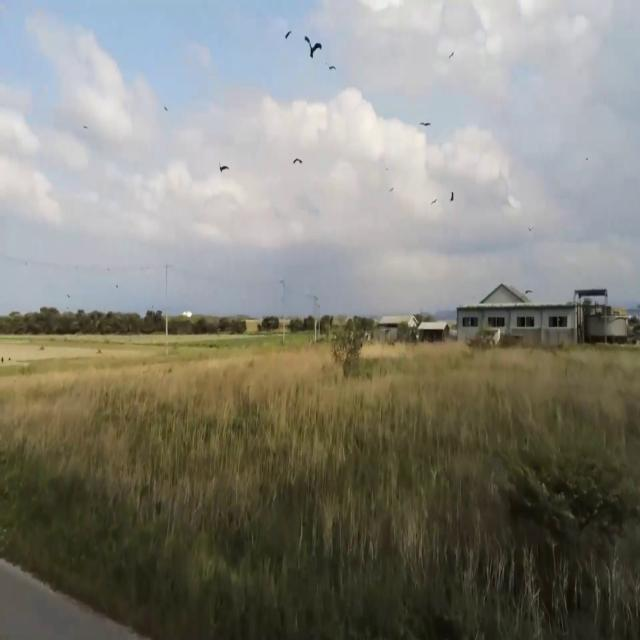bird: (303, 25, 323, 71), (218, 155, 229, 185), (419, 110, 431, 136), (292, 150, 303, 176), (326, 56, 337, 79), (284, 22, 292, 48), (448, 44, 455, 66)
